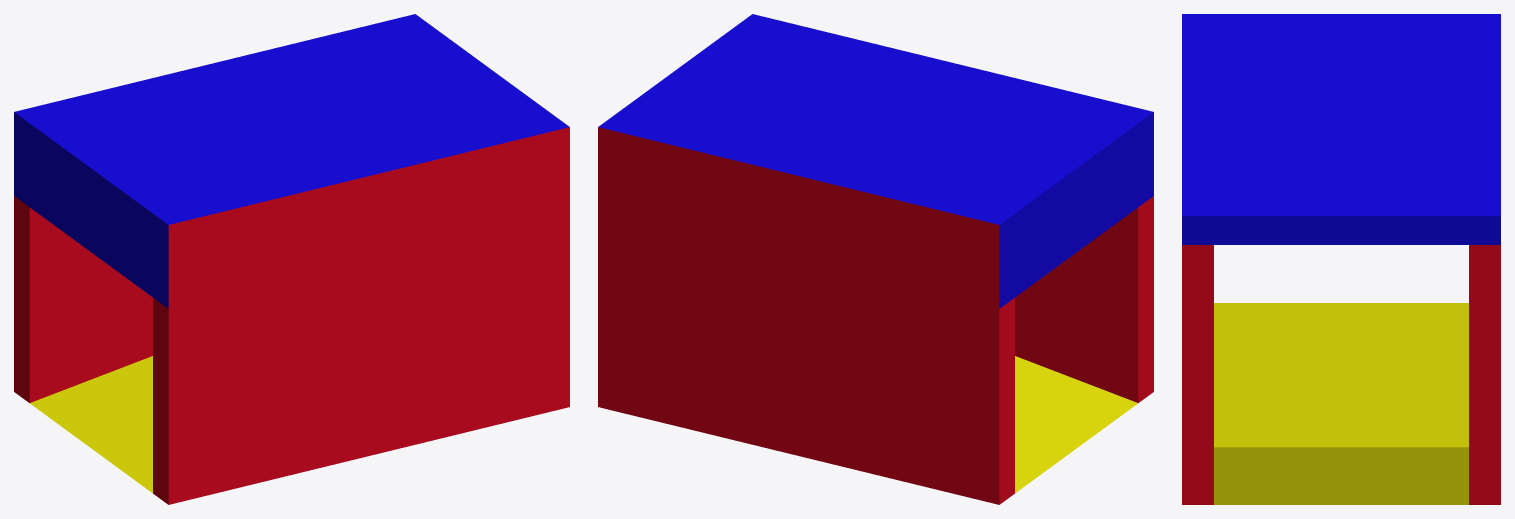
File: Arena_Doorway.fbx
The picture shows the model from 3 angles, left to right: view 1: azimuth 30°, elevation 25°; view 2: azimuth 150°, elevation 25°; view 3: azimuth 270°, elevation 25°; orthographic projection. The views are drawn at different scales.
Visible parts, largest first — view 1: Cube.002; view 2: Cube.002; view 3: Cube.002.
Part boxes in pixels (x1=…): Cube.002: x1=14, y1=14, x2=569, y2=504; Cube.002: x1=598, y1=14, x2=1153, y2=504; Cube.002: x1=1182, y1=14, x2=1500, y2=504.
Size of the model in its own units: 3000 by 2000 by 2000.
